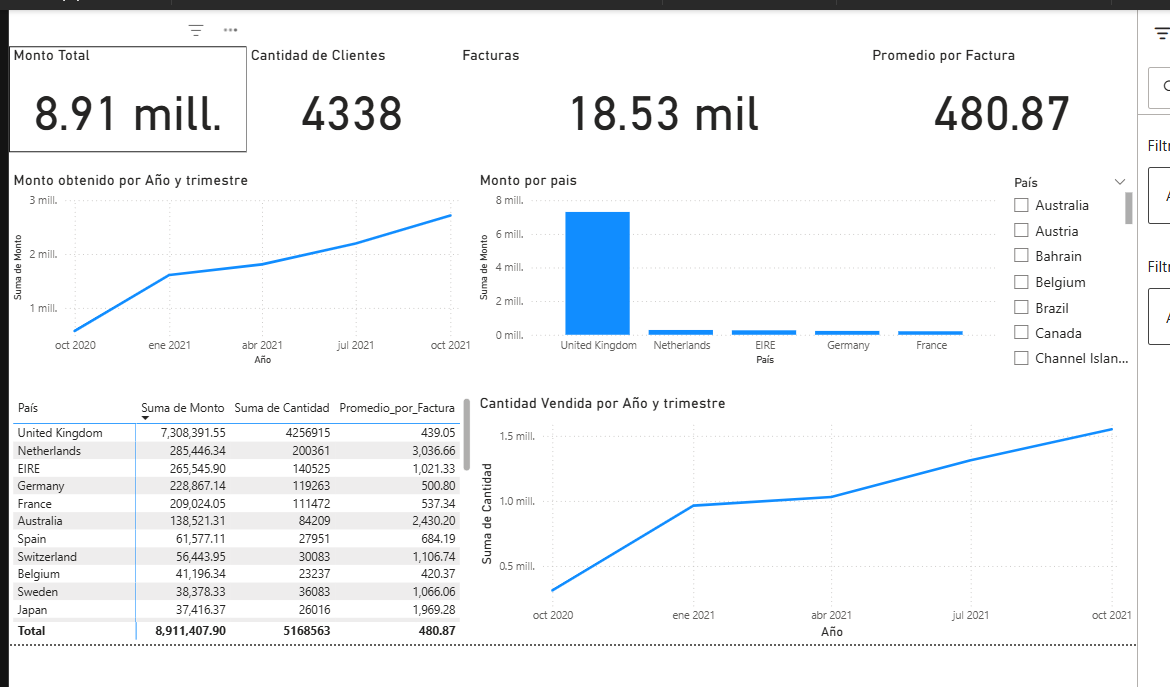

Layout of this report page (visuals, bound fields, positions):
{"tool":"powerbi","page":{"name":"Exploracion general","canvas":[1280,720],"ordinal":0},"visuals":[{"type":"card","title":"Monto Total","fields":{"Values":["Sum(datos_limpios.Monto)"]},"box":[0,41.3,269.4,119.7],"z":0},{"type":"card","title":"Cantidad de Clientes","fields":{"Values":["Count(datos_limpios.ID Cliente)"]},"box":[269.4,41.3,239.5,119.7],"z":1},{"type":"card","title":"Facturas","fields":{"Values":["Count(datos_limpios.N° de factura)"]},"box":[508.9,41.3,466.1,119.7],"z":2},{"type":"card","title":"Promedio por Factura","fields":{"Values":["datos_limpios.Promedio_por_Factura"]},"box":[975,41.3,305,119.7],"z":3},{"type":"lineChart","title":"Monto obtenido por Año y trimestre","fields":{"Category":["datos_limpios.Fecha_factura.Variación.Jerarquía de fechas.Año","datos_limpios.Fecha_factura.Variación.Jerarquía de fechas.Trimestre","datos_limpios.Fecha_factura.Variación.Jerarquía de fechas.Mes","datos_limpios.Fecha_factura.Variación.Jerarquía de fechas.Día"],"Y":["Sum(datos_limpios.Monto)"]},"box":[0,183.1,529.3,225.6],"z":4},{"type":"columnChart","title":"Monto por pais","fields":{"Y":["Sum(datos_limpios.Monto)"],"Category":["datos_limpios.País"]},"box":[529.3,183.1,598.8,225.6],"z":5},{"type":"slicer","fields":{"Values":["datos_limpios.País"]},"box":[1128.2,183.1,151.8,225.6],"z":6},{"type":"pivotTable","fields":{"Rows":["datos_limpios.País"],"Values":["Sum(datos_limpios.Monto)","Sum(datos_limpios.Cantidad)","datos_limpios.Promedio_por_Factura"]},"box":[0,435.7,529.3,283.8],"z":7},{"type":"lineChart","title":"Cantidad Vendida por Año y trimestre","fields":{"Category":["datos_limpios.Fecha_factura.Variación.Jerarquía de fechas.Año","datos_limpios.Fecha_factura.Variación.Jerarquía de fechas.Trimestre","datos_limpios.Fecha_factura.Variación.Jerarquía de fechas.Mes","datos_limpios.Fecha_factura.Variación.Jerarquía de fechas.Día"],"Y":["Sum(datos_limpios.Cantidad)"]},"box":[529.3,435.7,750.7,283.8],"z":8}]}

Visuals, with their boxes on the page's 1280x720 design canvas (x1, y1, x2, y2). These are canvas units, not pixel positions in the 1170x687 screenshot, which may show the page scaled, cropped or inside an application window:
"Monto Total" card: <bbox>0, 41, 269, 161</bbox>
"Cantidad de Clientes" card: <bbox>269, 41, 509, 161</bbox>
"Facturas" card: <bbox>509, 41, 975, 161</bbox>
"Promedio por Factura" card: <bbox>975, 41, 1280, 161</bbox>
"Monto obtenido por Año y trimestre" lineChart: <bbox>0, 183, 529, 409</bbox>
"Monto por pais" columnChart: <bbox>529, 183, 1128, 409</bbox>
slicer - datos_limpios.País: <bbox>1128, 183, 1280, 409</bbox>
pivotTable - datos_limpios.País x Sum(datos_limpios.Monto): <bbox>0, 436, 529, 720</bbox>
"Cantidad Vendida por Año y trimestre" lineChart: <bbox>529, 436, 1280, 720</bbox>
